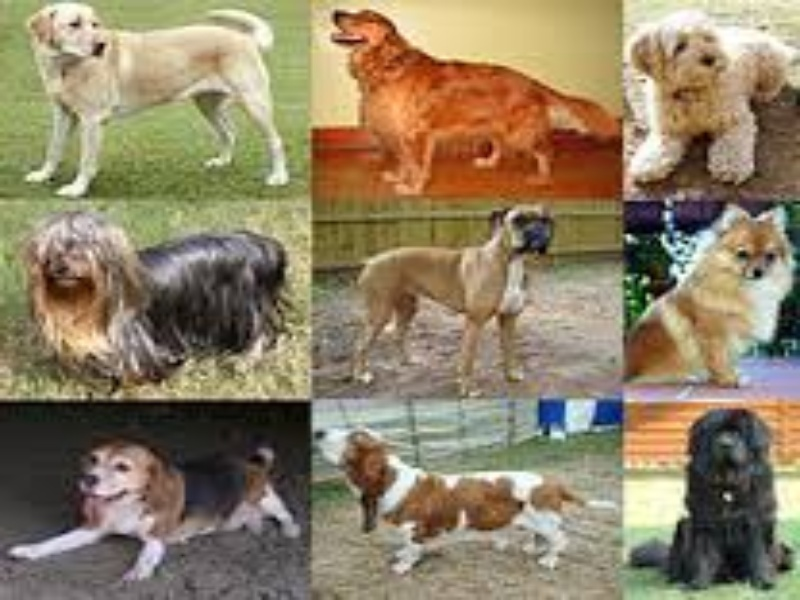dog: (328, 5, 616, 194), (22, 6, 299, 199), (16, 211, 296, 389), (5, 437, 303, 584), (315, 422, 584, 575), (345, 208, 559, 396), (633, 408, 798, 594), (627, 11, 793, 192), (632, 205, 790, 392)
